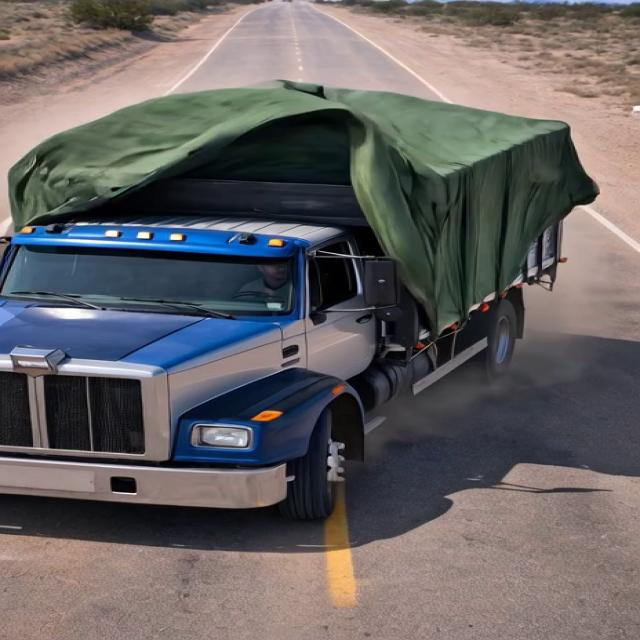trailer: (22, 80, 588, 264)
truck: (0, 63, 624, 515)
